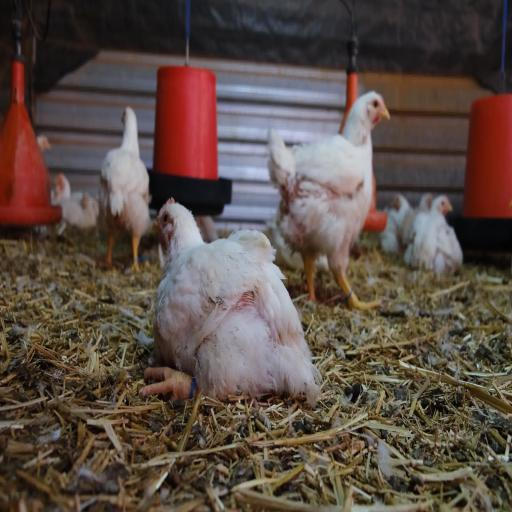healthy: (146, 194, 186, 242), (366, 81, 394, 135)
